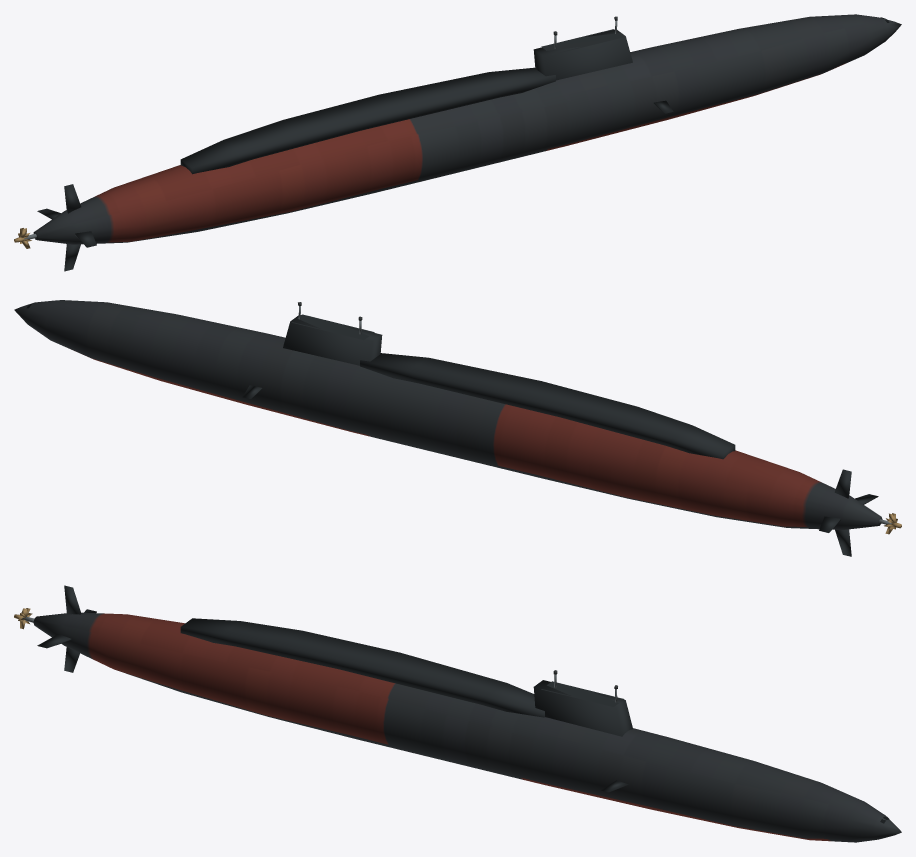
Rendered from RU_SSBN_DeltaII_LOD3.fbx.
3 views of the same model, one above another, from view 1: azimuth 30°, elevation 25°; view 2: azimuth 150°, elevation 25°; view 3: azimuth 330°, elevation 25° (orthographic).
Parts seen in each view (by area): view 1: RU_SSBN_DeltaII_LOD3; view 2: RU_SSBN_DeltaII_LOD3; view 3: RU_SSBN_DeltaII_LOD3.
Part boxes in pixels (x1=…): RU_SSBN_DeltaII_LOD3: x1=14, y1=14, x2=901, y2=271; RU_SSBN_DeltaII_LOD3: x1=14, y1=300, x2=901, y2=556; RU_SSBN_DeltaII_LOD3: x1=14, y1=585, x2=901, y2=842.
Bounding box in the file's own units: 159 × 20.06 × 20.47.
Materials: 6 (1 with a texture image).
